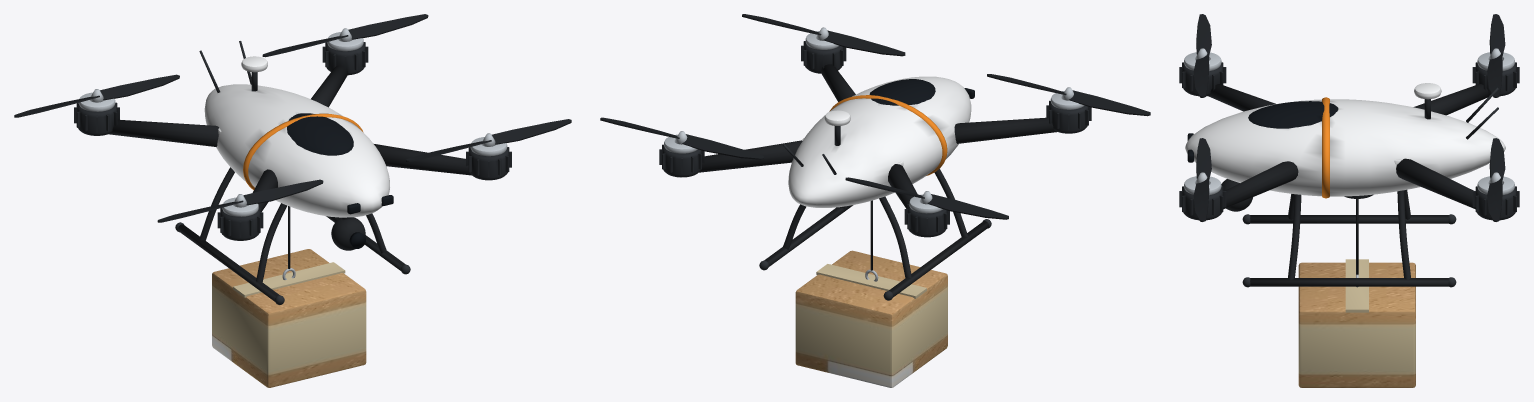
The model's file is drone.glb.
The picture shows the model from 3 angles, left to right: view 1: azimuth 30°, elevation 25°; view 2: azimuth 150°, elevation 25°; view 3: azimuth 270°, elevation 25°; orthographic projection. The views are drawn at different scales.
Parts seen in each view (by area): view 1: Body, Hang, Prop_RL, Prop_FL, Prop_FR, Prop_RR; view 2: Body, Hang, Prop_RR, Prop_RL, Prop_FR, Prop_FL; view 3: Body, Hang, Prop_FL, Prop_FR, Prop_RL, Prop_RR.
Boxes of the visible parts, <box> form: Body: <box>74,32,511,304</box>; Hang: <box>212,206,366,387</box>; Prop_RL: <box>262,14,428,57</box>; Prop_FL: <box>406,119,571,161</box>; Prop_FR: <box>157,179,323,222</box>; Prop_RR: <box>14,74,179,117</box>; Body: <box>659,31,1091,300</box>; Hang: <box>795,200,947,387</box>; Prop_RR: <box>845,177,1008,219</box>; Prop_RL: <box>600,117,763,159</box>; Prop_FR: <box>987,74,1150,116</box>; Prop_FL: <box>742,14,905,56</box>; Body: <box>1179,52,1519,287</box>; Hang: <box>1298,199,1415,387</box>; Prop_FL: <box>1193,138,1211,221</box>; Prop_FR: <box>1193,14,1211,97</box>; Prop_RL: <box>1487,138,1505,221</box>; Prop_RR: <box>1487,14,1505,97</box>.
Bounding box in the file's own units: 1.25 × 0.78 × 0.8695.
12 materials, 1 textured.
